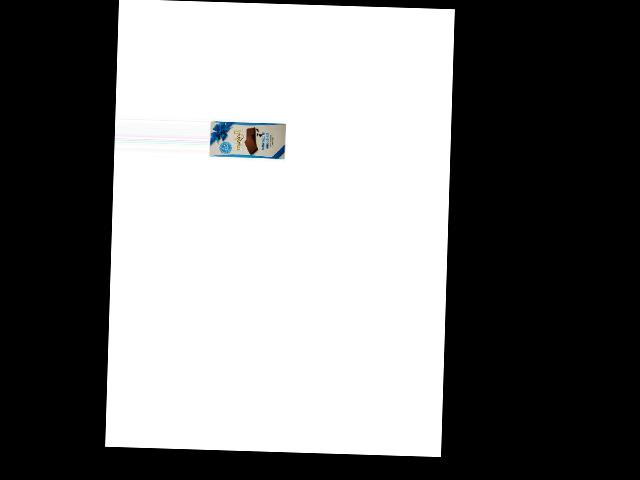chocolate: (208, 116, 287, 162)
